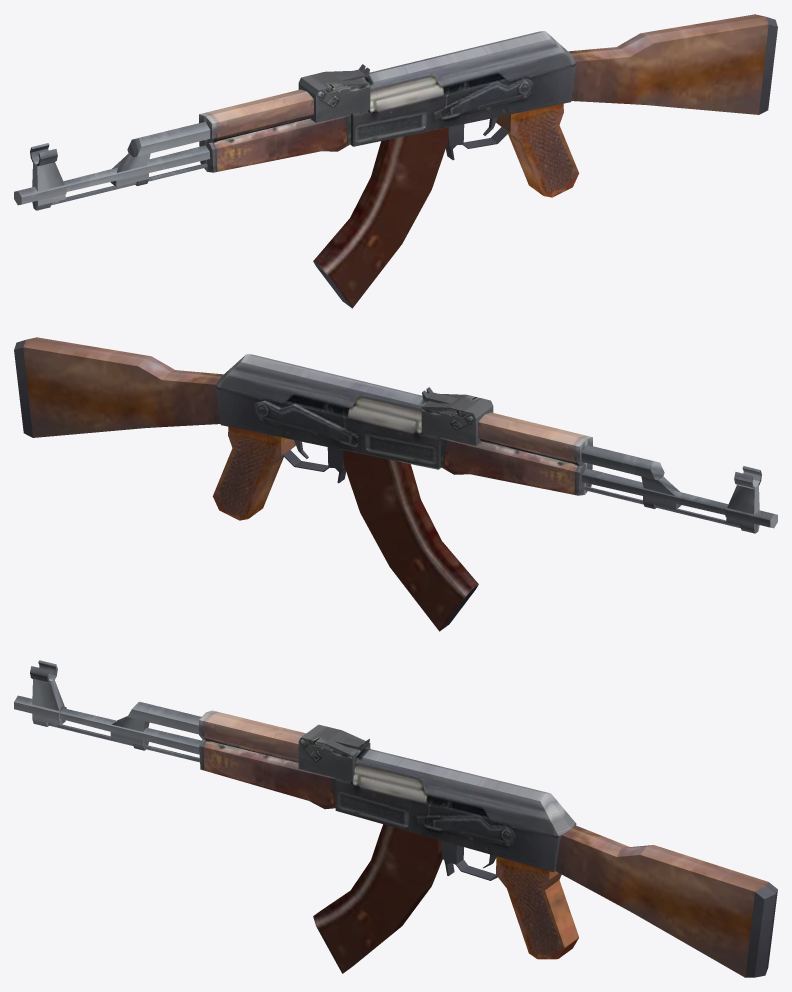
3 views of the same model, one above another, from view 1: azimuth 30°, elevation 25°; view 2: azimuth 150°, elevation 25°; view 3: azimuth 330°, elevation 25° (orthographic).
Parts seen in each view (by area): view 1: GUN_Material_0; view 2: GUN_Material_0; view 3: GUN_Material_0.
Boxes of the visible parts, bbox=[...] form: GUN_Material_0: bbox=[14, 14, 777, 308]; GUN_Material_0: bbox=[14, 337, 777, 631]; GUN_Material_0: bbox=[14, 660, 777, 977].
Size of the model in its own units: 29.26 by 8.62 by 1.31.
Materials: 1 (1 with a texture image).
